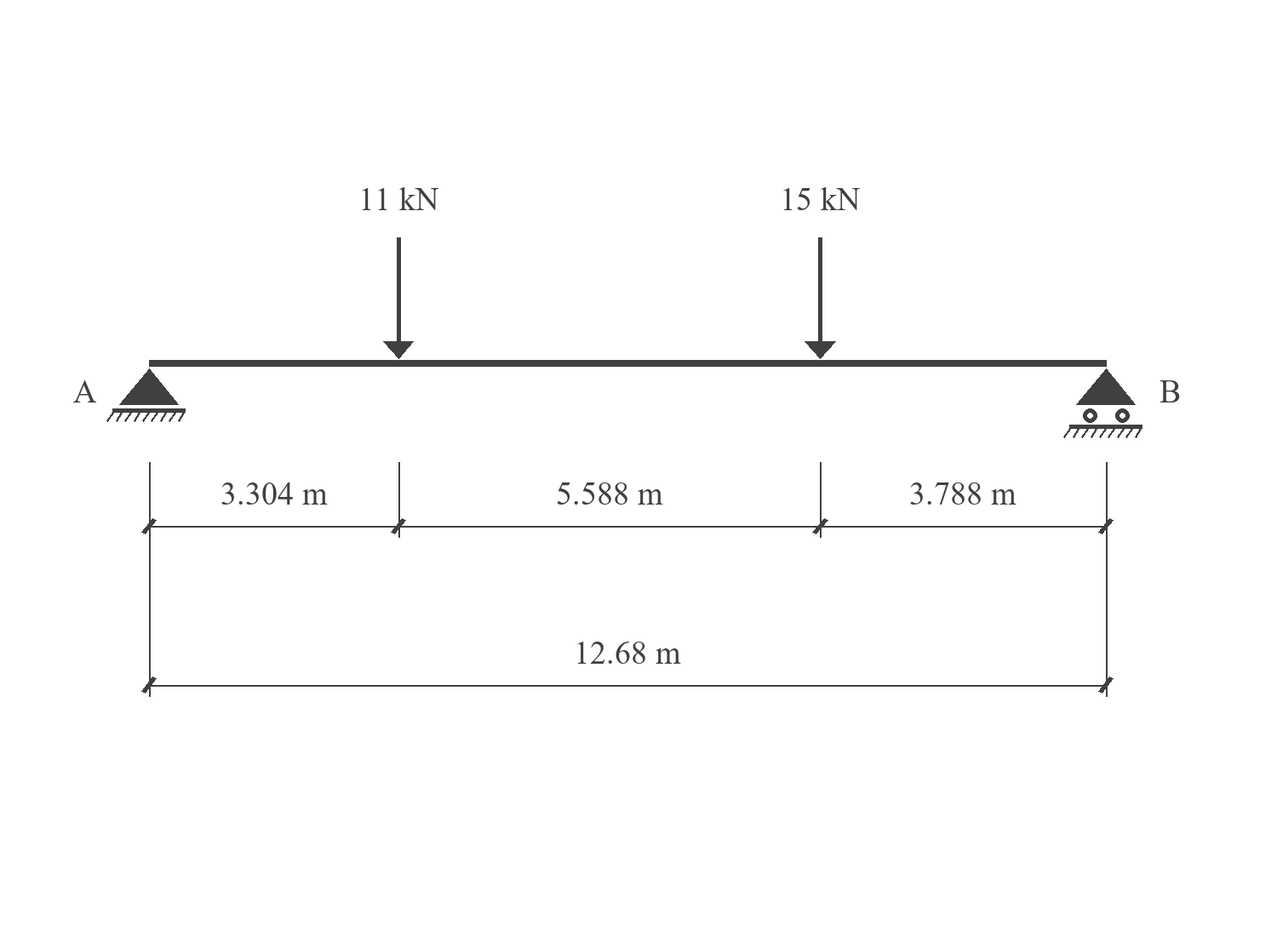pin_support: (106, 368, 186, 422)
point_load: (383, 237, 414, 359), (805, 237, 836, 359)
roller_support: (1063, 368, 1142, 438)
